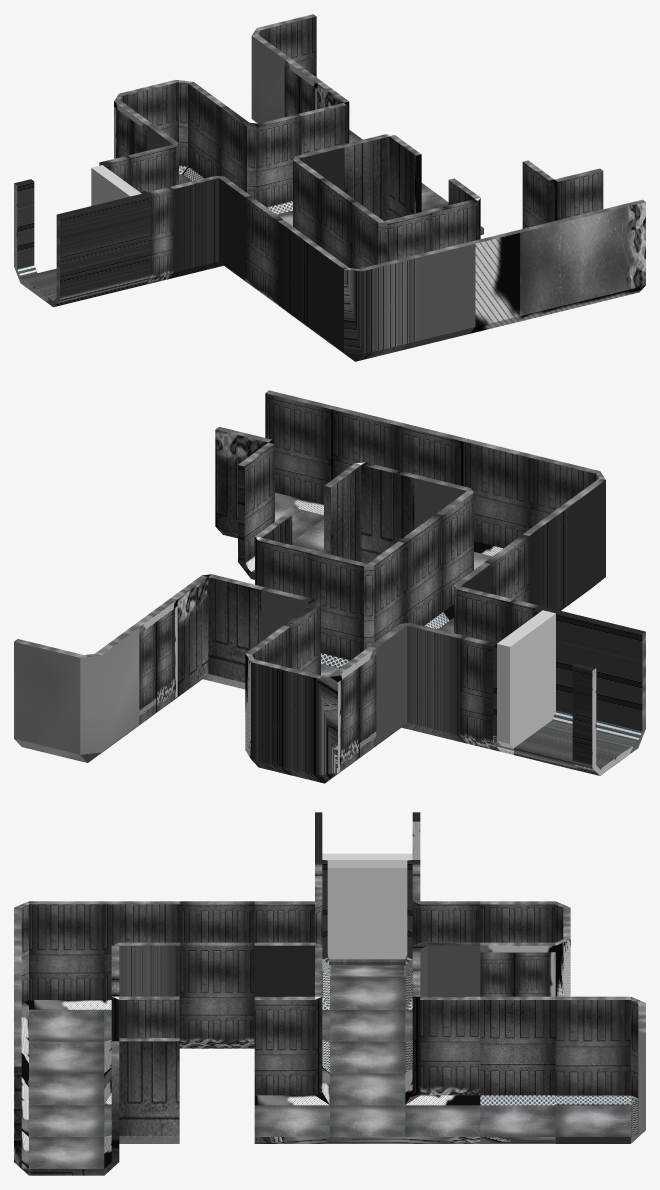
Rendered from elements.fbx.
The picture shows the model from 3 angles, top to bottom: view 1: azimuth 30°, elevation 25°; view 2: azimuth 150°, elevation 25°; view 3: azimuth 270°, elevation 25°; orthographic projection. The views are drawn at different scales.
Parts seen in each view (by area): view 1: Tshape, Lshape, Xshape, Door base, Tentrance, Deadend, Straight, Corner, Wall, Door; view 2: Tshape, Xshape, Lshape, Door base, Deadend, Corner, Tentrance, Door, Straight, Wall; view 3: Tentrance, Lshape, Xshape, Tshape, Corner, Straight, Wall, Door, Deadend, Door base.
Boxes of the visible parts, left/top/right/bottom form: Tshape: left=430, top=160, right=645, bottom=333; Lshape: left=278, top=202, right=475, bottom=361; Xshape: left=128, top=106, right=344, bottom=288; Door base: left=14, top=155, right=173, bottom=307; Tentrance: left=298, top=82, right=483, bottom=234; Deadend: left=114, top=80, right=225, bottom=184; Straight: left=245, top=178, right=357, bottom=312; Corner: left=251, top=14, right=352, bottom=132; Wall: left=284, top=58, right=362, bottom=142; Door: left=91, top=165, right=141, bottom=205; Tshape: left=215, top=390, right=467, bottom=579; Xshape: left=261, top=541, right=512, bottom=753; Lshape: left=414, top=439, right=605, bottom=621; Door base: left=460, top=599, right=645, bottom=775; Deadend: left=245, top=625, right=376, bottom=783; Corner: left=14, top=626, right=139, bottom=762; Tentrance: left=166, top=514, right=314, bottom=705; Door: left=497, top=610, right=555, bottom=747; Straight: left=399, top=513, right=529, bottom=633; Wall: left=129, top=598, right=177, bottom=732; Tentrance: left=254, top=971, right=480, bottom=1143; Lshape: left=14, top=901, right=179, bottom=1073; Xshape: left=254, top=876, right=480, bottom=1073; Tshape: left=14, top=971, right=179, bottom=1175; Corner: left=555, top=996, right=645, bottom=1143; Straight: left=179, top=901, right=254, bottom=1048; Wall: left=480, top=996, right=555, bottom=1143; Door: left=322, top=853, right=412, bottom=959; Deadend: left=480, top=901, right=570, bottom=996; Door base: left=315, top=812, right=420, bottom=977.
Bounding box in the file's own units: 800 × 160 × 840.
